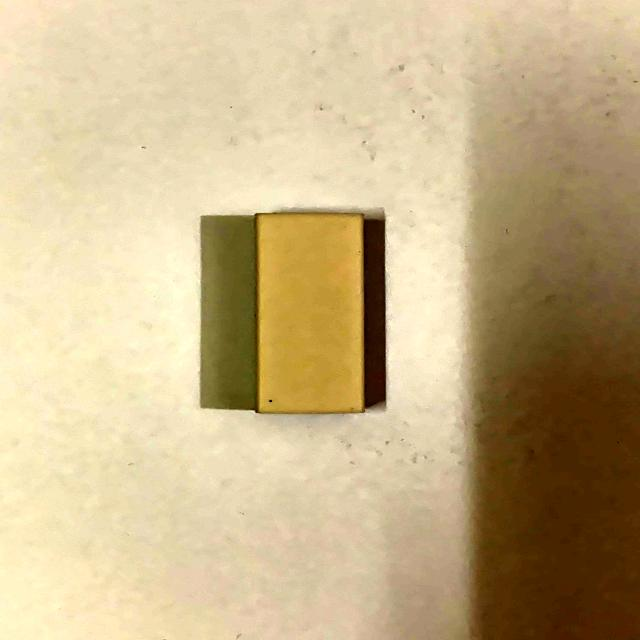Eraser: (224, 186, 415, 438)
